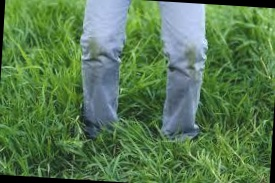earth: (88, 37, 97, 60), (185, 47, 194, 70)
